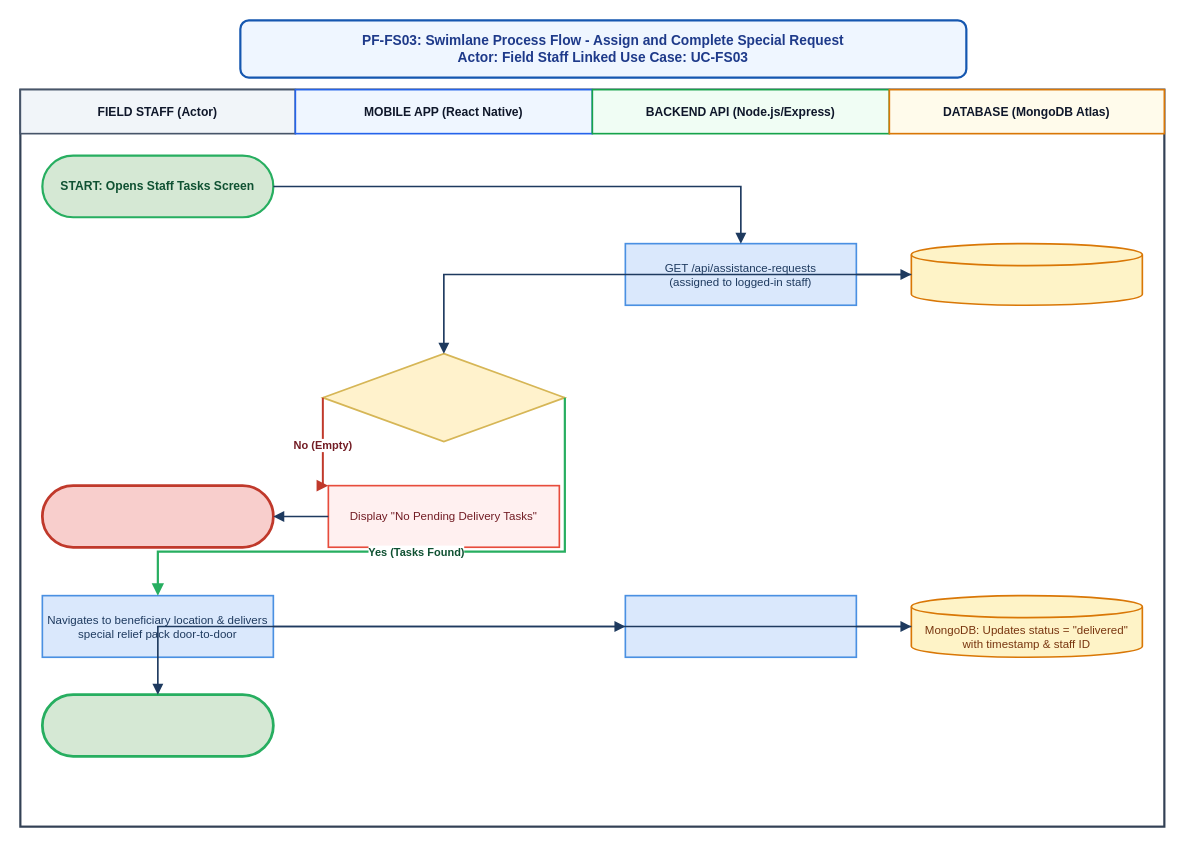
Some shapes in this 1184 by 846 pixel diagram are drawn without their labels. The shapes that lost their labels are listed below. From the top down, each one's box as (x1, y1, x2, y2) in pixels, then its label:
(910, 242, 1143, 306): MongoDB: Queries AssistanceRequests where assignedStaff = staffId
(322, 352, 565, 442): Pending delivery tasks exist in queue?
(40, 484, 274, 548): END: Task queue clear
(624, 594, 857, 658): PATCH /api/assistance-requests/:id/deliver Socket.IO alert to resident & LGU
(40, 693, 274, 757): END: Delivery marked completed
